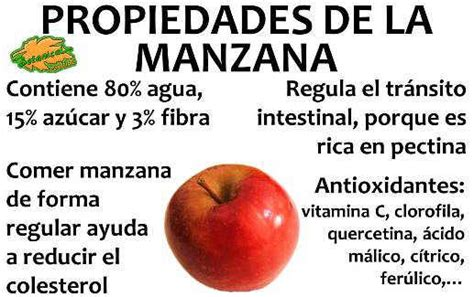apple: (161, 159, 304, 295)
